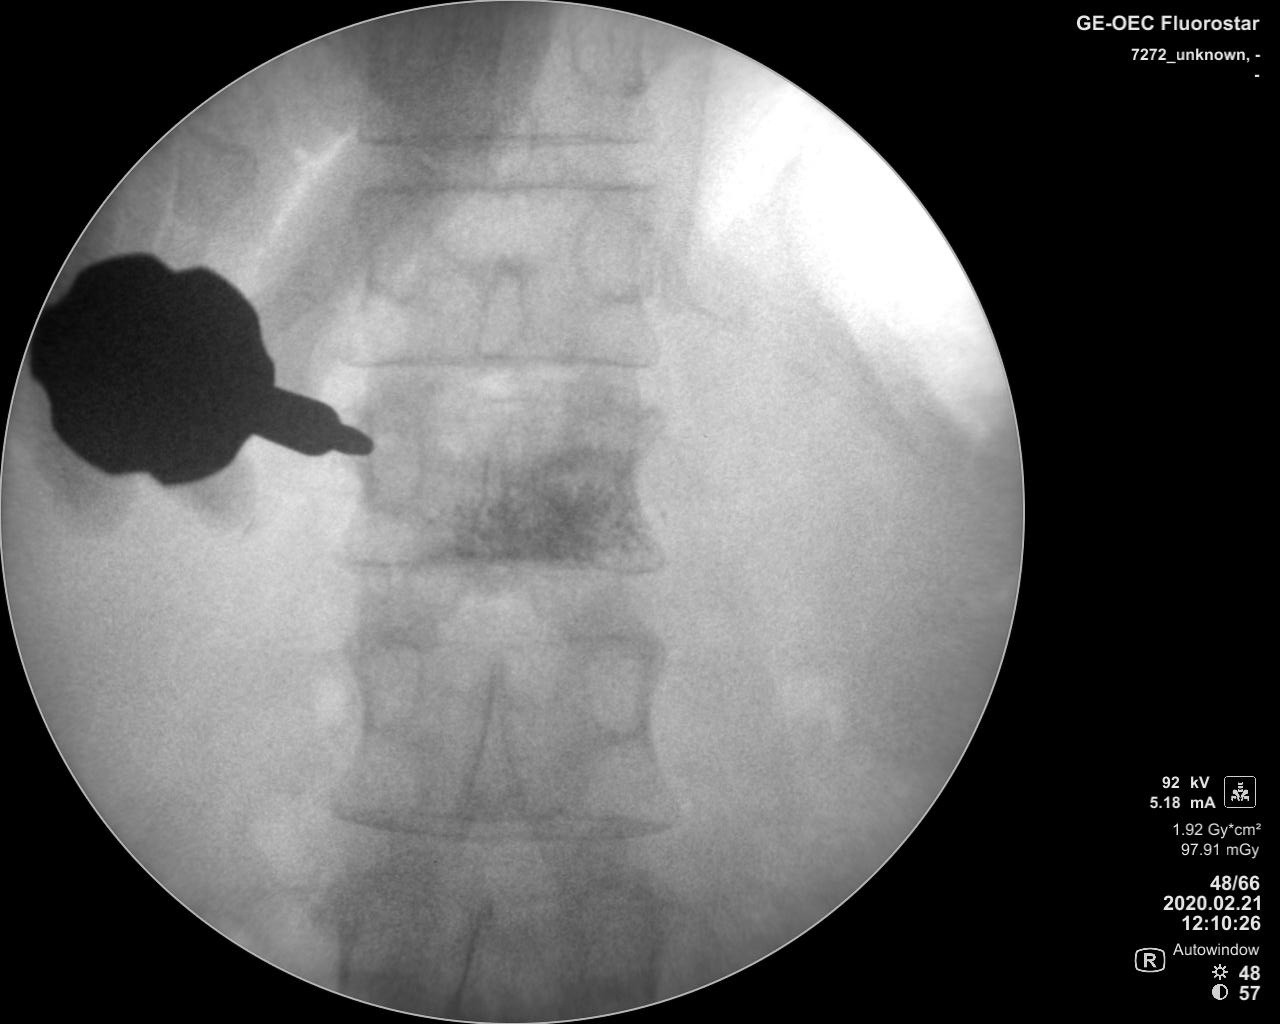eyes: (567, 199, 656, 307), (358, 196, 429, 304), (577, 644, 656, 737), (574, 14, 650, 106), (348, 644, 424, 734), (366, 411, 424, 515)
line: (318, 796, 681, 852), (318, 545, 675, 586), (324, 341, 669, 381), (347, 113, 666, 155), (333, 622, 667, 658), (339, 170, 673, 206)
nose: (465, 645, 526, 839), (447, 871, 517, 1022), (459, 417, 521, 560), (473, 240, 532, 363)
